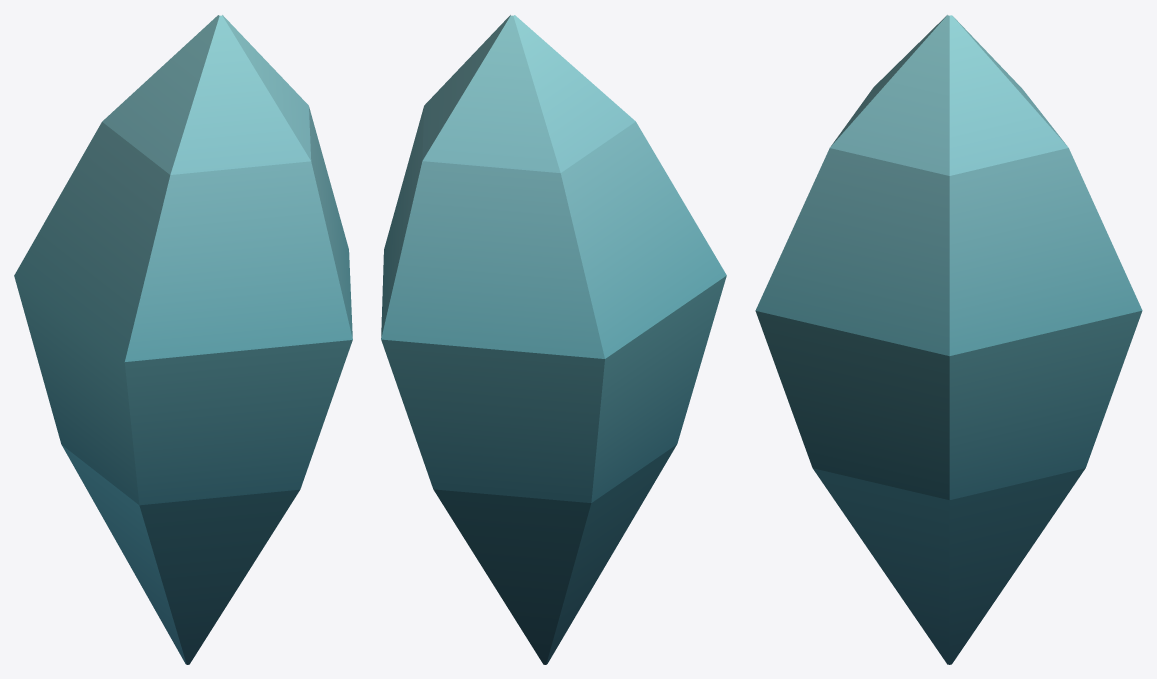
The model's file is ice.crystal-v1.glb.
The picture shows the model from 3 angles, left to right: view 1: azimuth 30°, elevation 25°; view 2: azimuth 150°, elevation 25°; view 3: azimuth 270°, elevation 25°; orthographic projection. The views are drawn at different scales.
Visible parts, largest first — view 1: ice.crystal; view 2: ice.crystal; view 3: ice.crystal.
Part boxes in pixels (left/top/right/bottom): ice.crystal: left=14, top=15, right=352, bottom=664; ice.crystal: left=381, top=15, right=726, bottom=664; ice.crystal: left=755, top=15, right=1142, bottom=664.
Size of the model in its own units: 0.299 by 0.646 by 0.3404.
